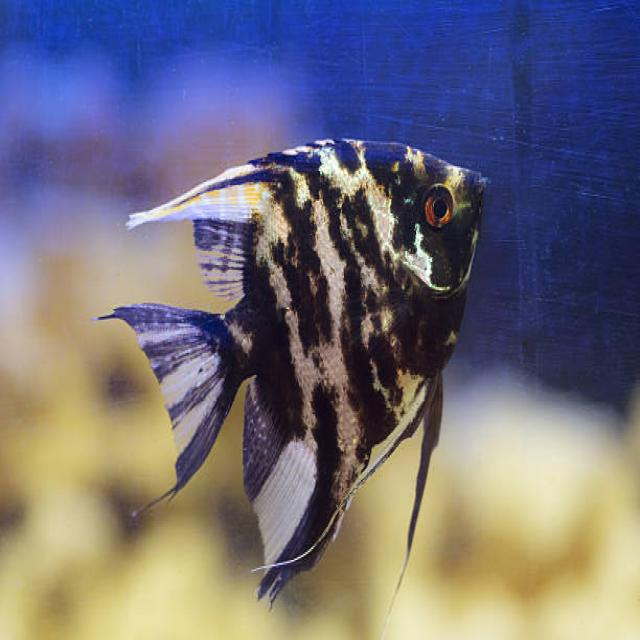AngelFish: (100, 131, 489, 617)
